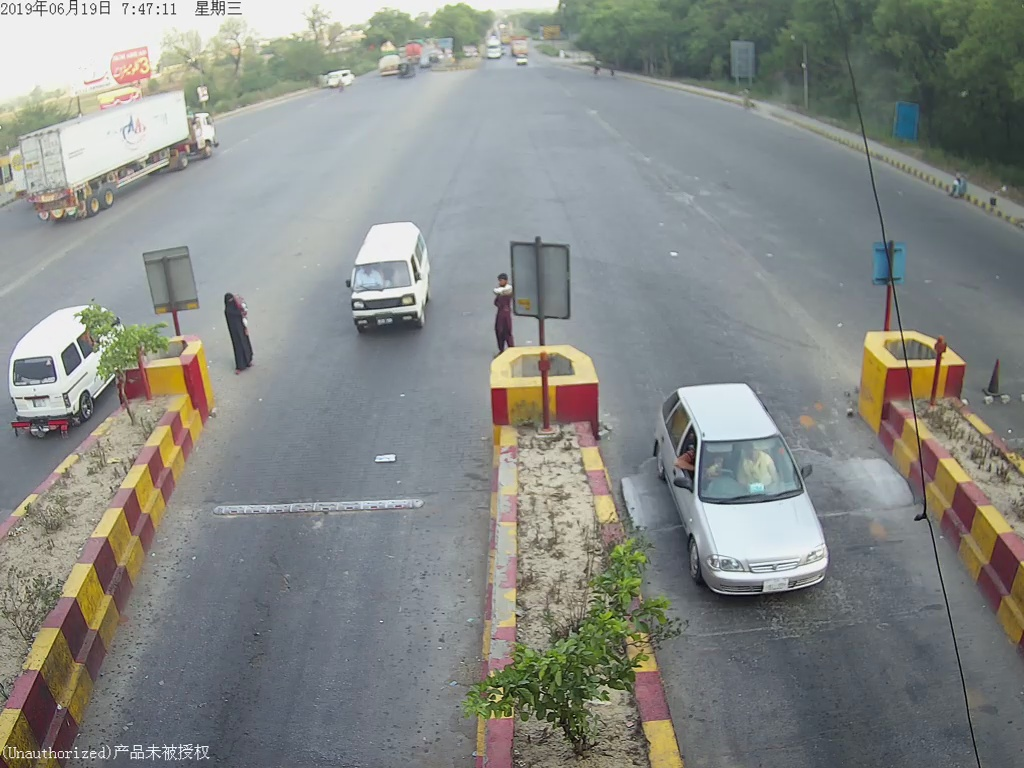Cat-1: (652, 374, 835, 597), (344, 213, 438, 336)
